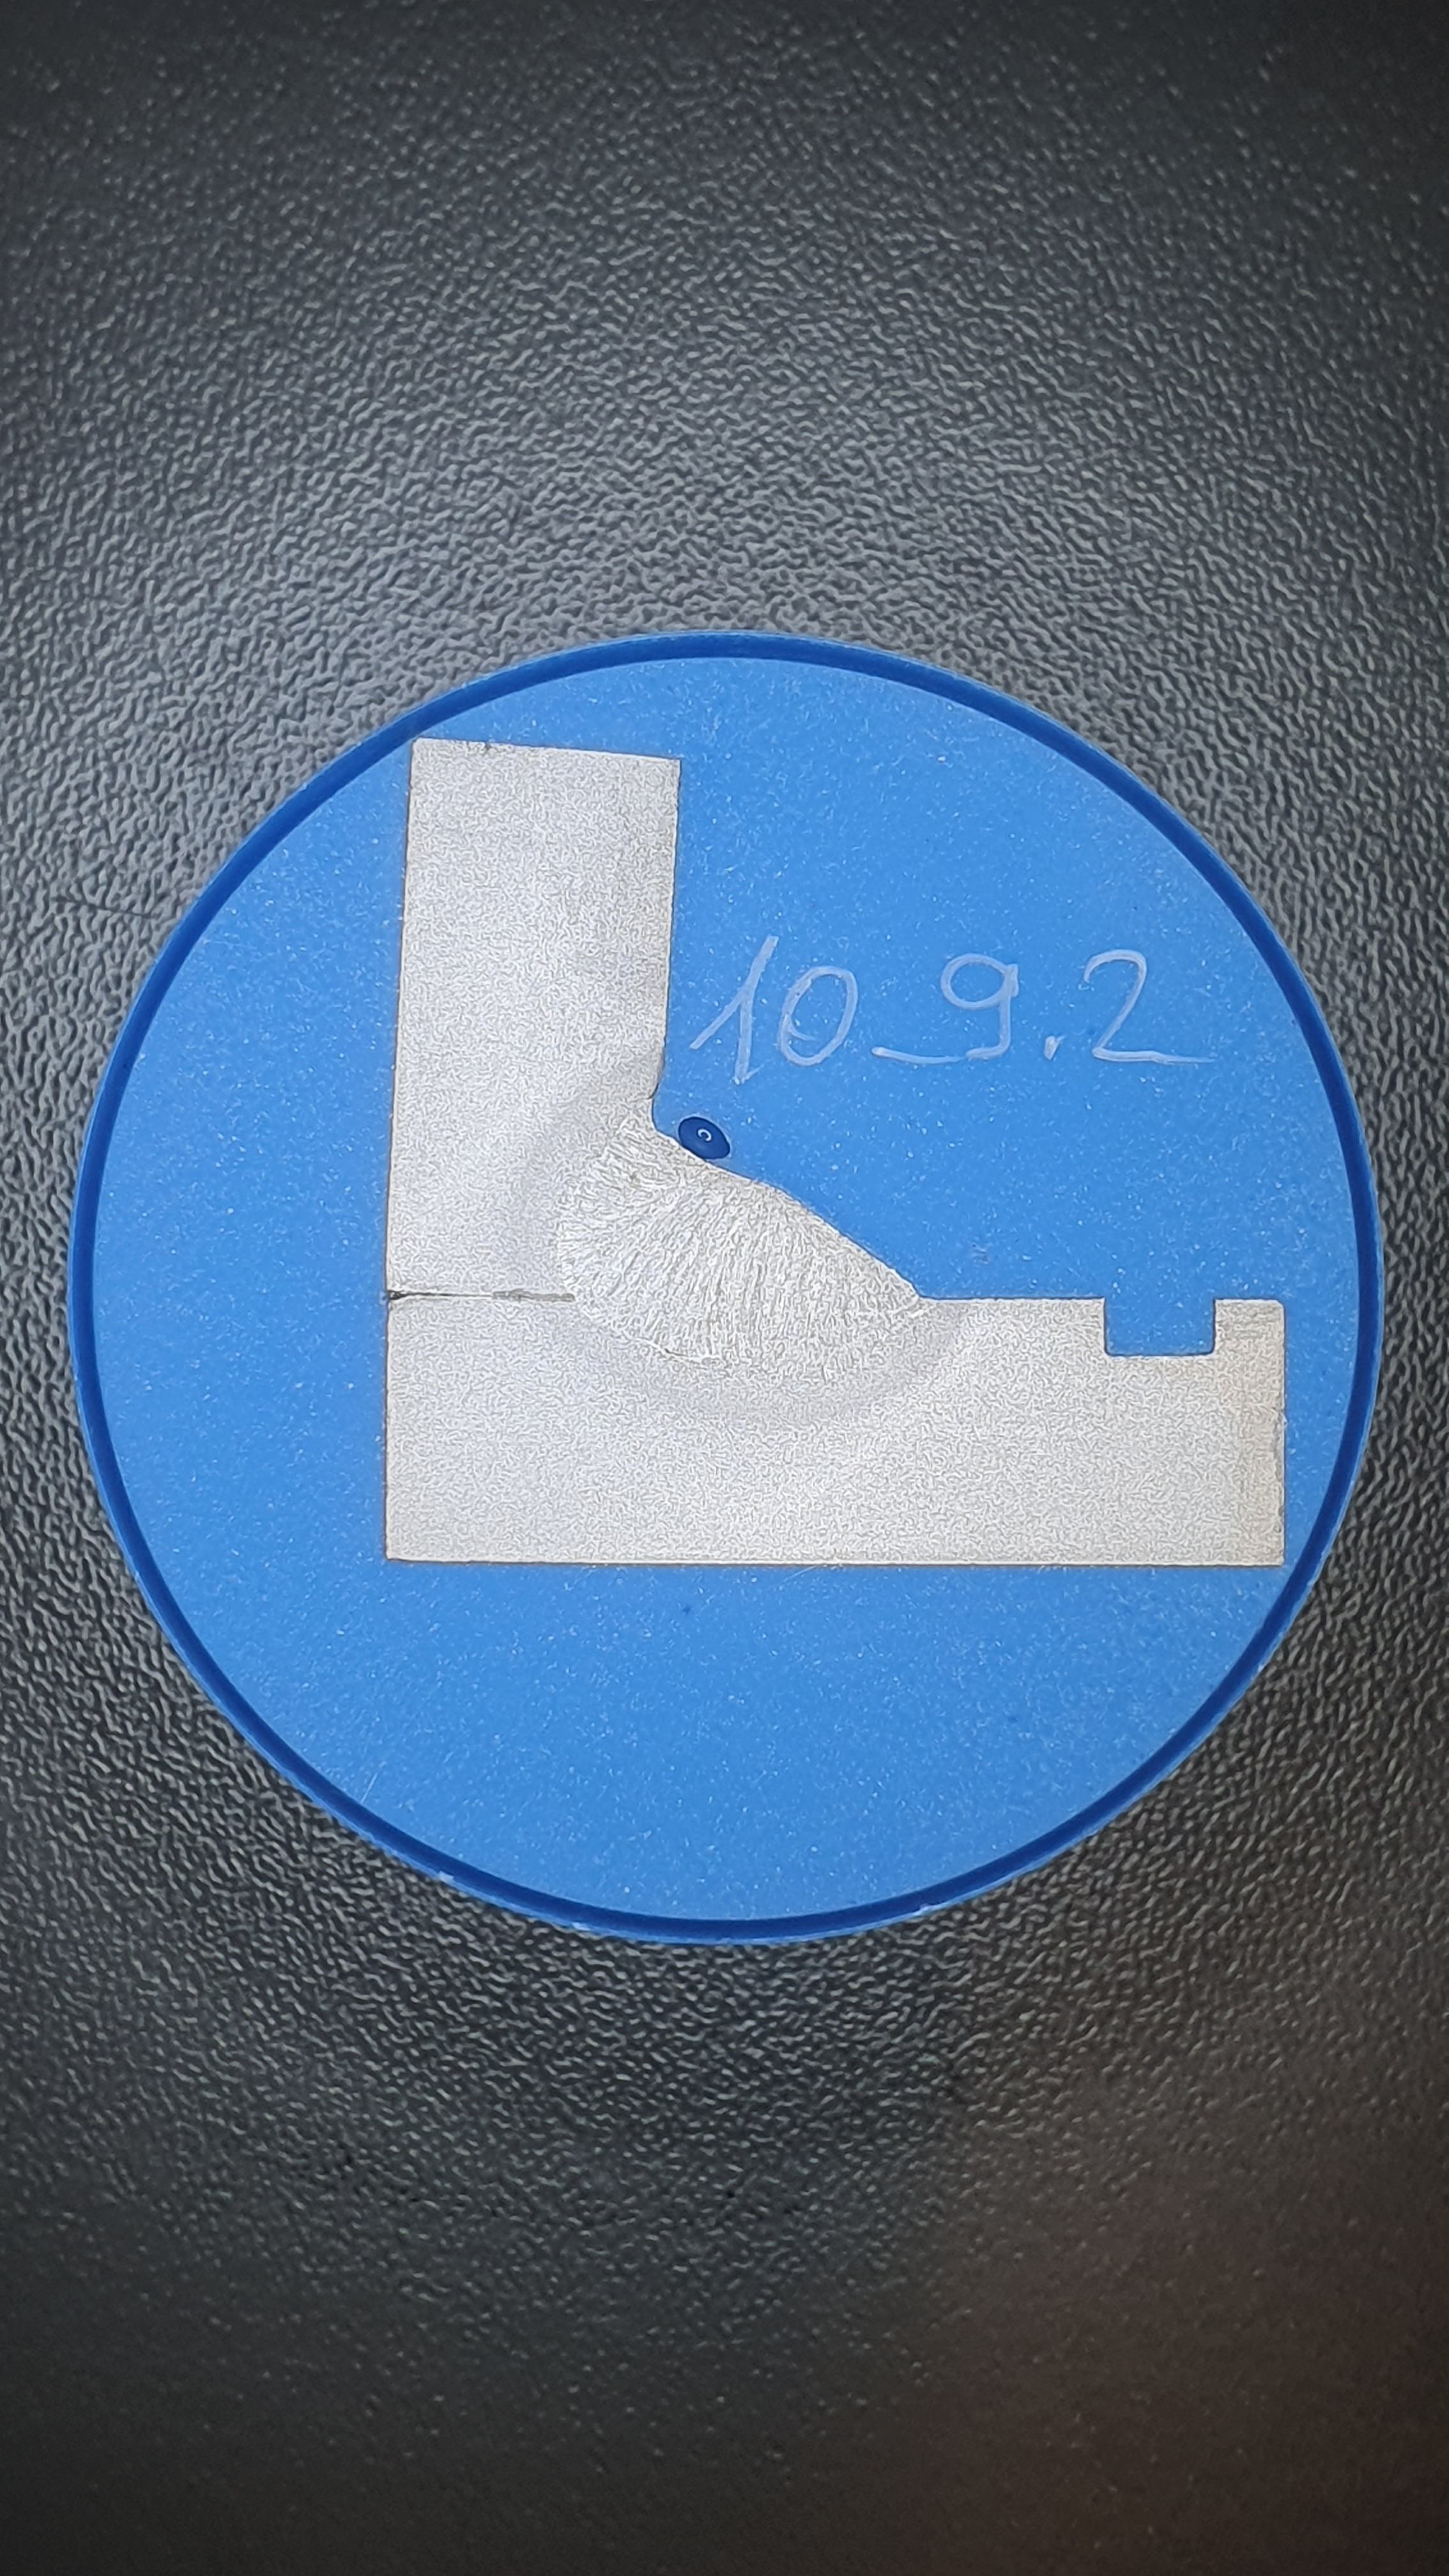Fusion: (556, 1099, 938, 1383)
Hintergrund: (95, 655, 1358, 1919)
Metall: (384, 736, 1285, 1567)
Nebenbereich: (502, 1037, 970, 1432)
